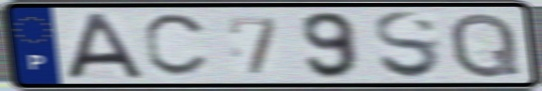7: (226, 16, 281, 75)
9: (298, 10, 362, 81)
A: (64, 11, 147, 81)
C: (141, 11, 212, 80)
Q: (447, 10, 524, 81)
S: (371, 9, 446, 82)
